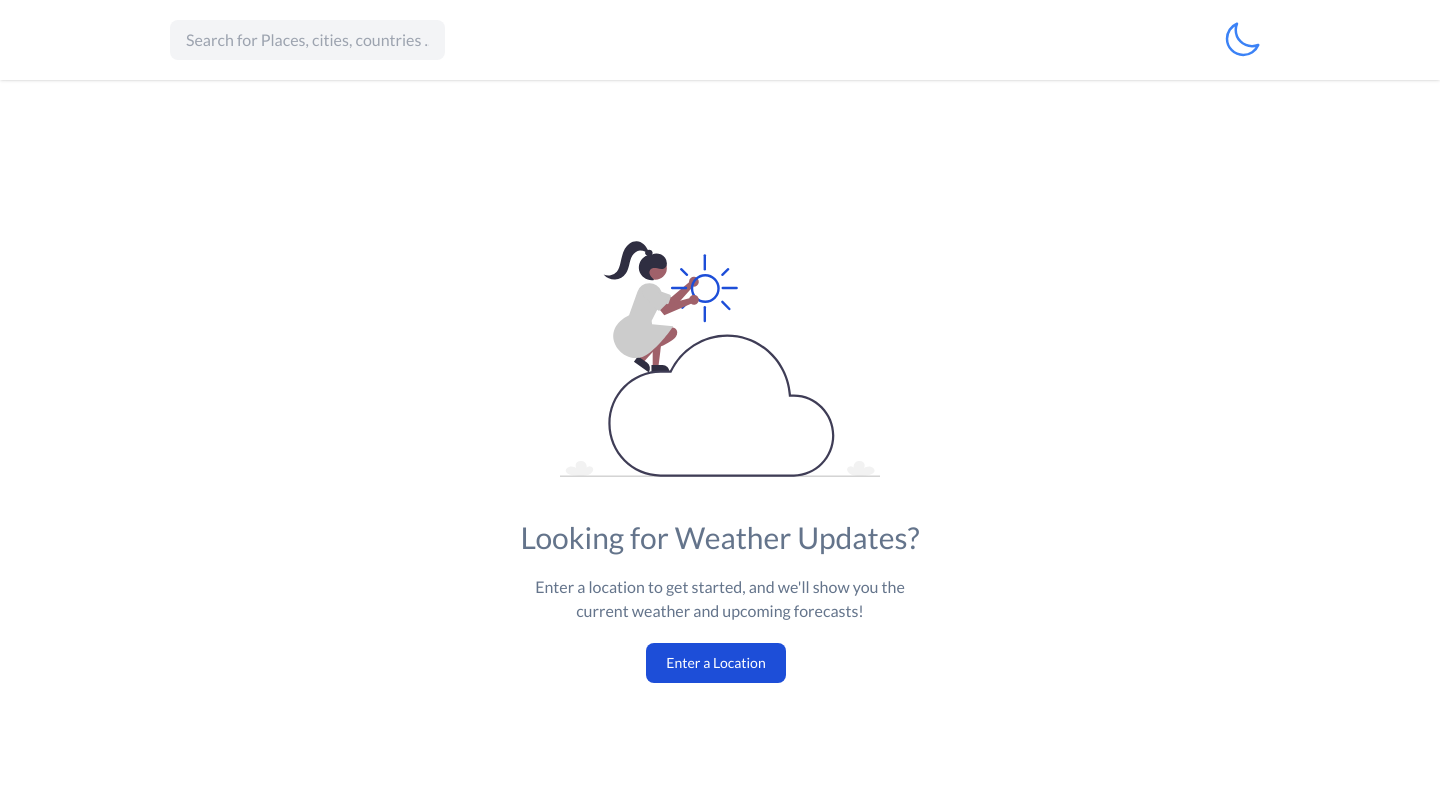
Test: handles a successful fetch
Type "niger" into the field with placeholder "Search for Places, cities, countries ..." at (308, 40), box [170, 20, 445, 60]
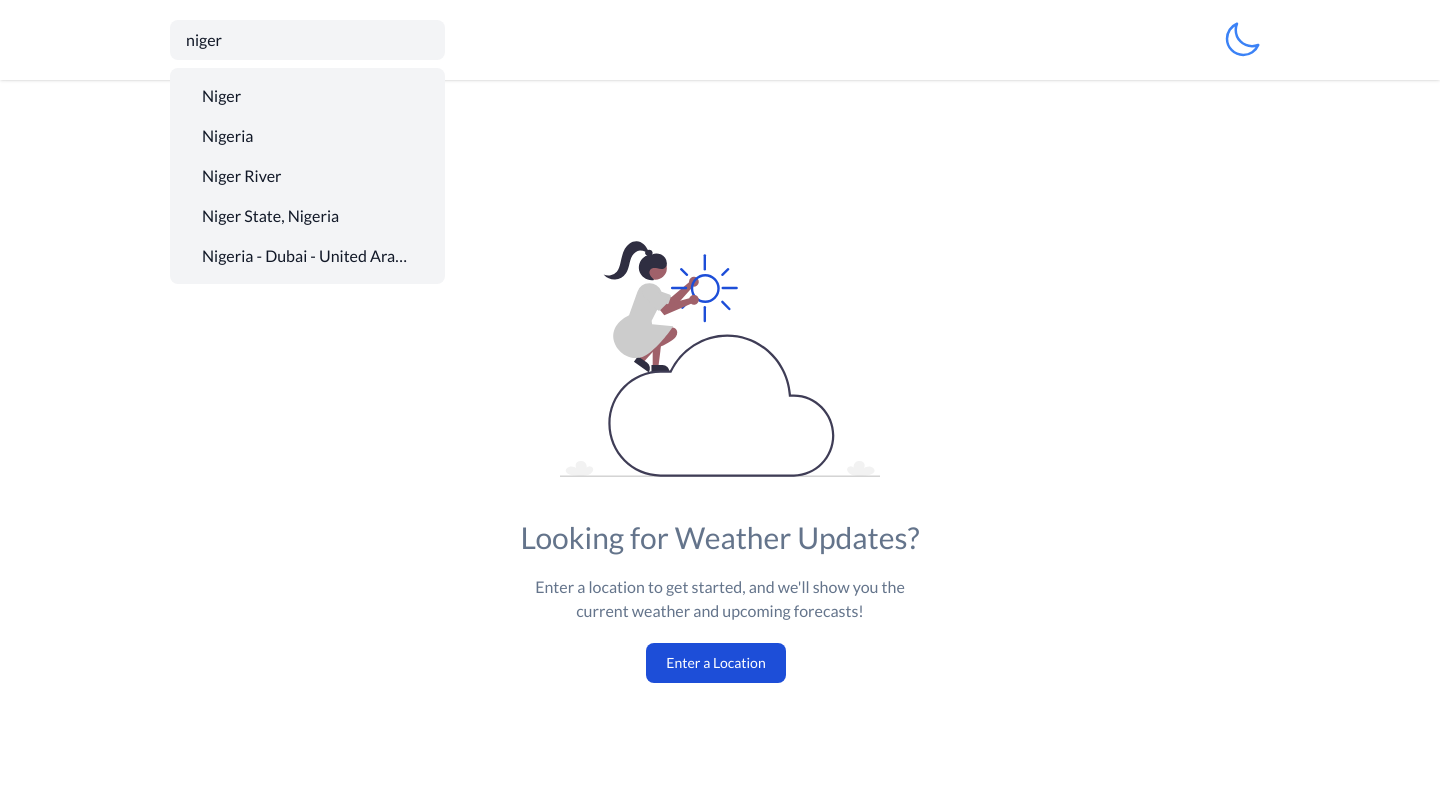
expect the option "Niger" is shown: met
expect the option "Nigeria" is shown: met, box [202, 126, 253, 145]
expect the option "Niger River" is shown: met, box [202, 166, 282, 185]
Click the option "Niger" at (222, 96), box [202, 86, 241, 105]
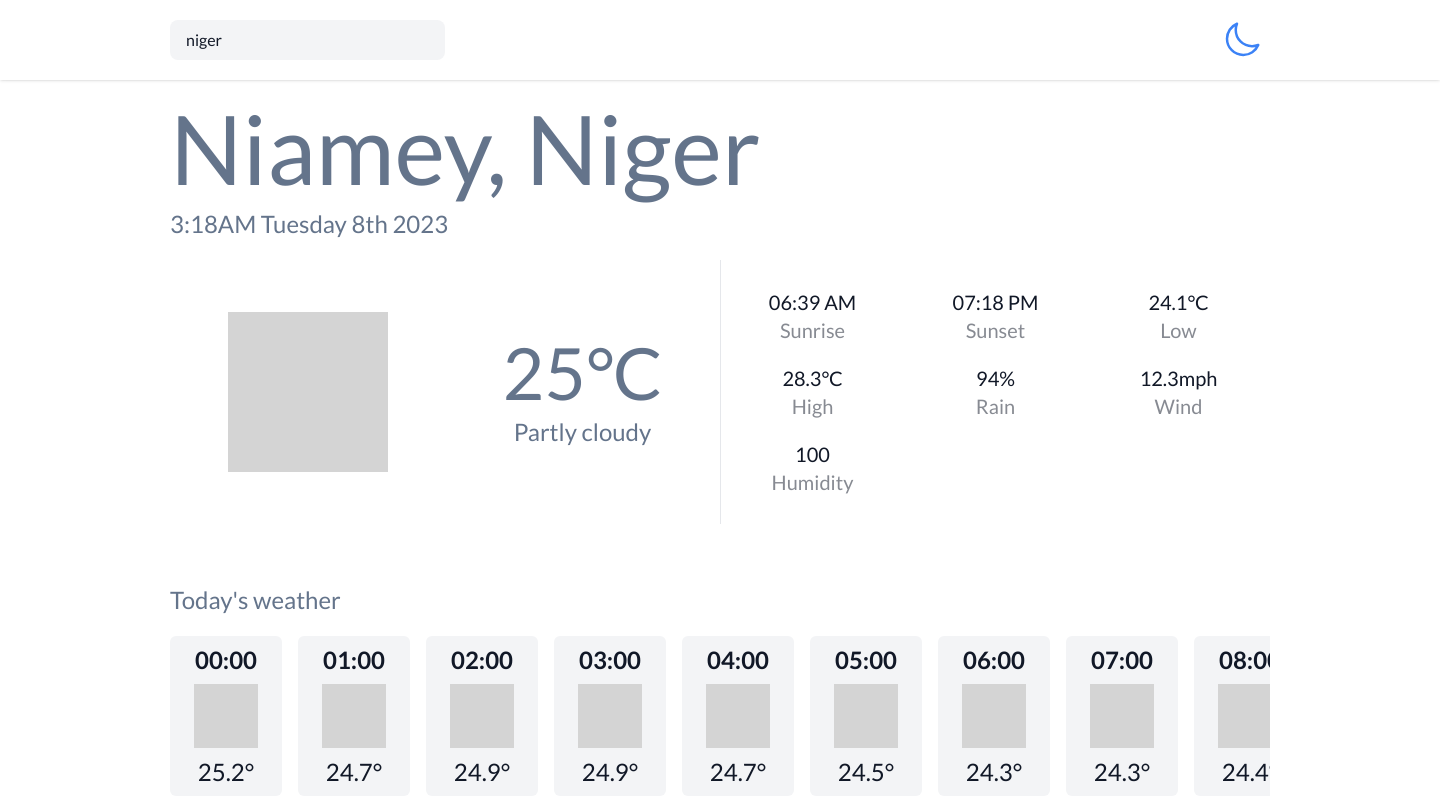
expect the text "Niamey, Niger" is shown: met, box [170, 90, 761, 205]
expect the text "3:18AM Tuesday 8th 2023" is shown: met, box [170, 209, 448, 238]
expect the text "Partly cloudy" is shown: met, box [514, 417, 651, 446]
